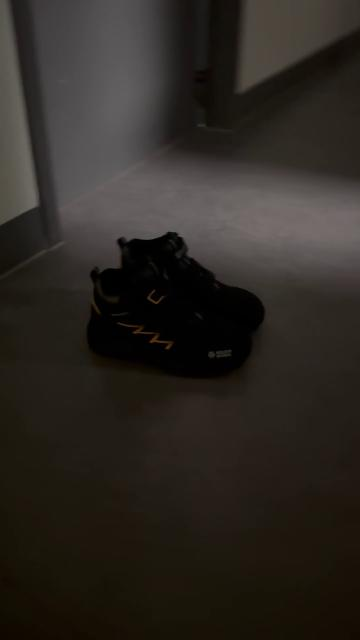shoe_worn: (84, 266, 251, 380), (114, 233, 269, 330)
